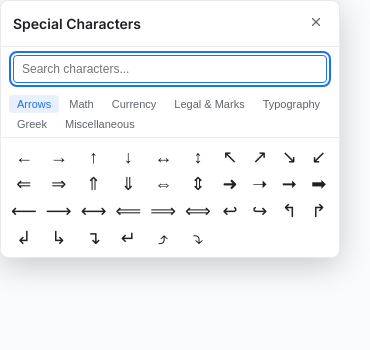
SpecialChars › switches categories
Click the button "Math" at [81, 104], box x1=61 y1=95 x2=102 y2=113
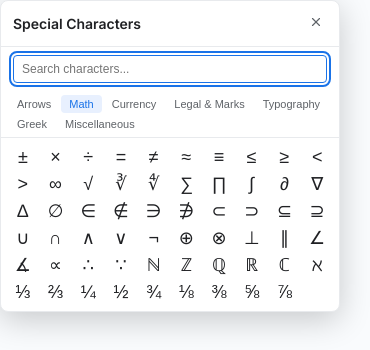
Result: the button "±" is shown at x1=7 y1=144 x2=39 y2=170
